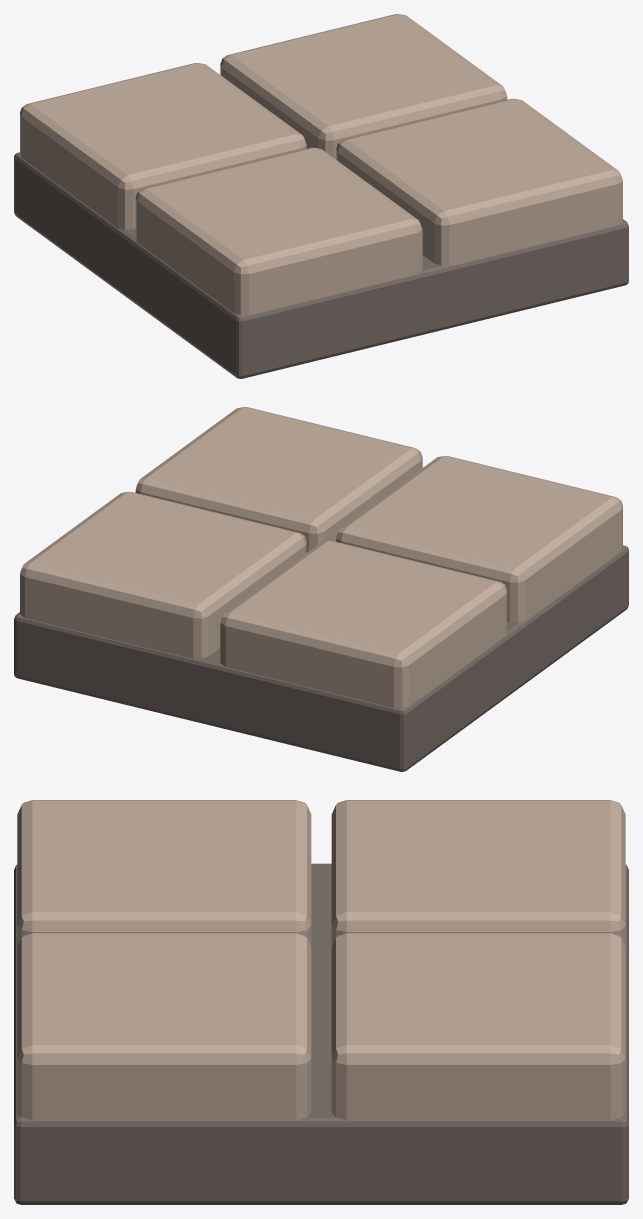
File: collapsing_tile.glb
3 views of the same model, one above another, from view 1: azimuth 30°, elevation 25°; view 2: azimuth 150°, elevation 25°; view 3: azimuth 270°, elevation 25° (orthographic). The views are drawn at different scales.
Visible parts, largest first — view 1: CrackCore, Shard_-0.23_-0.23, Shard_0.23_-0.23, Shard_-0.23_0.23, Shard_0.23_0.23; view 2: CrackCore, Shard_-0.23_0.23, Shard_0.23_0.23, Shard_-0.23_-0.23, Shard_0.23_-0.23; view 3: CrackCore, Shard_0.23_0.23, Shard_0.23_-0.23, Shard_-0.23_0.23, Shard_-0.23_-0.23.
Boxes of the visible parts, x1,y1,x2,y2 form: CrackCore: [14, 152, 628, 378]; Shard_-0.23_-0.23: [135, 147, 422, 314]; Shard_0.23_-0.23: [336, 98, 622, 265]; Shard_-0.23_0.23: [20, 63, 306, 229]; Shard_0.23_0.23: [220, 14, 507, 159]; CrackCore: [14, 545, 628, 771]; Shard_-0.23_0.23: [220, 540, 507, 707]; Shard_0.23_0.23: [20, 491, 306, 658]; Shard_-0.23_-0.23: [336, 456, 622, 622]; Shard_0.23_-0.23: [135, 407, 422, 552]; CrackCore: [14, 863, 628, 1204]; Shard_0.23_0.23: [331, 933, 625, 1120]; Shard_0.23_-0.23: [17, 933, 311, 1120]; Shard_-0.23_0.23: [331, 800, 625, 946]; Shard_-0.23_-0.23: [17, 800, 311, 946].
Size of the model in its own units: 0.9 by 0.25 by 0.9.
